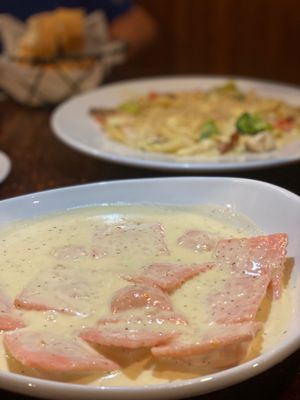curry: (237, 112, 272, 135)
